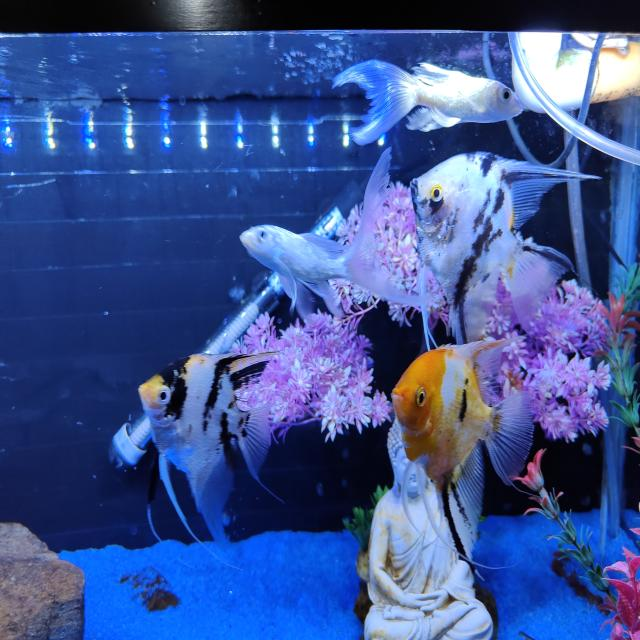Fish: (411, 153, 598, 343), (240, 148, 424, 318), (392, 340, 533, 557), (139, 353, 273, 548), (333, 60, 522, 145)
